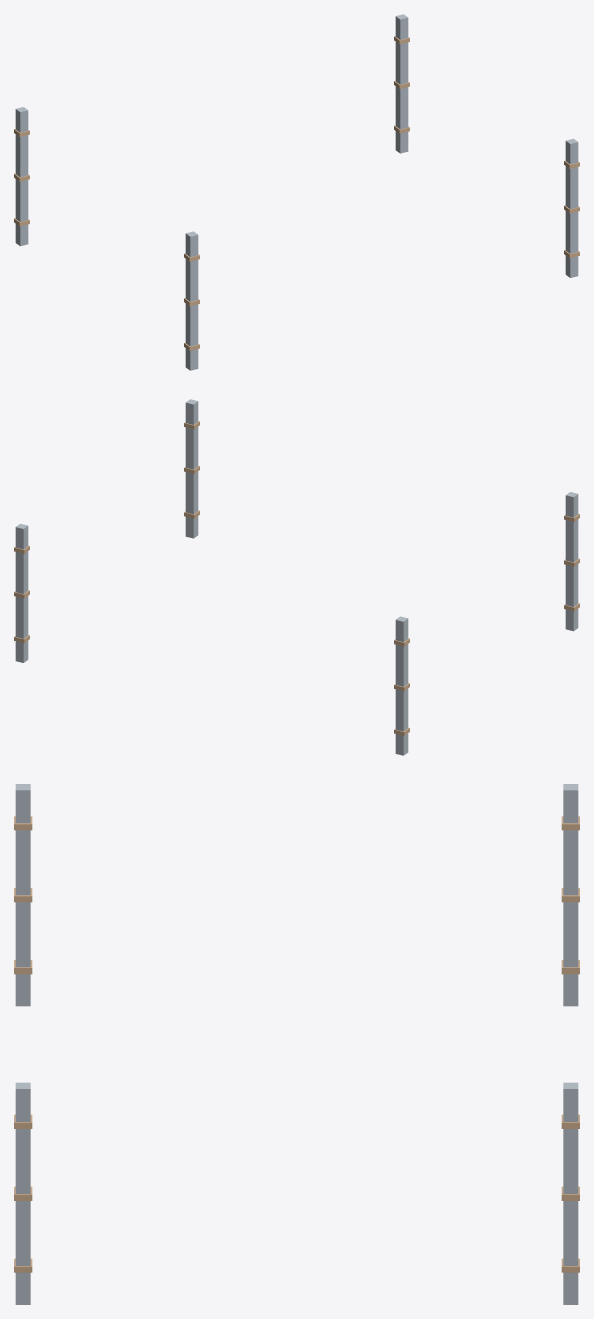
The model's file is 11_PS_Studio_CornerStructuralSupports.glb.
3 renders of one model, top to bottom at view 1: azimuth 30°, elevation 25°; view 2: azimuth 150°, elevation 25°; view 3: azimuth 270°, elevation 25°, orthographic. The views are drawn at different scales.
Parts seen in each view (by area): view 1: PS_Studio_CornerStructuralSupports; view 2: PS_Studio_CornerStructuralSupports; view 3: PS_Studio_CornerStructuralSupports.
Part boxes in pixels (x1,y1,x2,y2): PS_Studio_CornerStructuralSupports: (14,14,579,370); PS_Studio_CornerStructuralSupports: (14,399,579,755); PS_Studio_CornerStructuralSupports: (14,784,579,1304).
Bounding box in the file's own units: 18.28 × 6 × 14.26.
